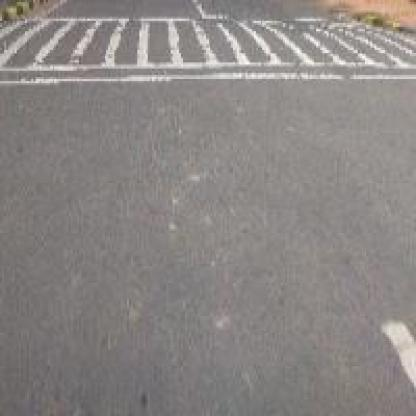Speed Bump: (2, 14, 414, 90)
